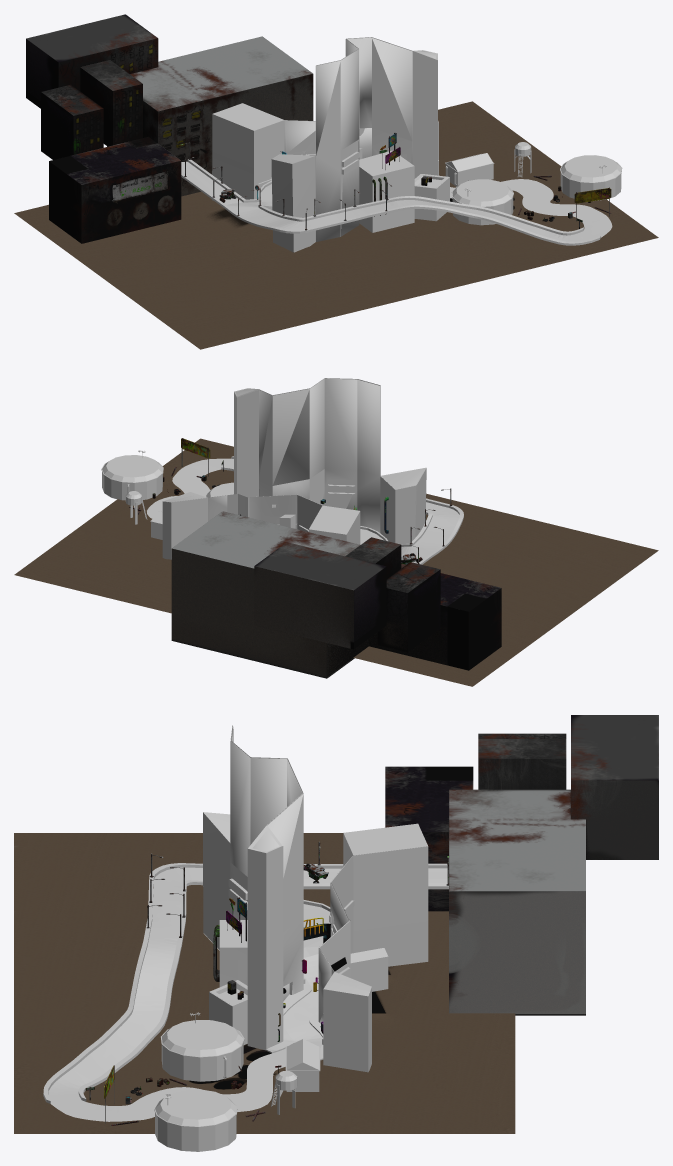
File: circuit2.obj
The picture shows the model from 3 angles, top to bottom: view 1: azimuth 30°, elevation 25°; view 2: azimuth 150°, elevation 25°; view 3: azimuth 270°, elevation 25°; orthographic projection. The views are drawn at different scales.
Parts seen in each view (by area): view 1: PlanoCarretera_Plane, EdificiosFondo_Cube.043, EdificiosPasillos_BezierCurve.000_CUBezierCurve.002, EdificiosPasillos_EdificiosPasillos, PistaBordillo_BezierCurve.003_CUBezierCurve.003, EdificiosIndustrial_Cylinder.001_Cylinder.016, EdificiosPasillos.001_EdificiosPasillos.001, Señales_Cube.023, Farolas_Cube.021; view 2: EdificiosFondo_Cube.043, PlanoCarretera_Plane, EdificiosPasillos.001_EdificiosPasillos.001, EdificiosPasillos_BezierCurve.000_CUBezierCurve.002, PistaBordillo_BezierCurve.003_CUBezierCurve.003, EdificiosIndustrial_Cylinder.001_Cylinder.016, EdificiosPasillos_EdificiosPasillos; view 3: PlanoCarretera_Plane, EdificiosFondo_Cube.043, EdificiosPasillos_BezierCurve.000_CUBezierCurve.002, PistaBordillo_BezierCurve.003_CUBezierCurve.003, EdificiosPasillos.001_EdificiosPasillos.001, EdificiosIndustrial_Cylinder.001_Cylinder.016, EdificiosPasillos_EdificiosPasillos, Señales_Cube.023.
Boxes of the visible parts, x1,y1,x2,y2 form: PlanoCarretera_Plane: [14, 101, 658, 349]; EdificiosFondo_Cube.043: [26, 14, 313, 243]; EdificiosPasillos_BezierCurve.000_CUBezierCurve.002: [212, 37, 449, 252]; EdificiosPasillos_EdificiosPasillos: [284, 37, 412, 252]; PistaBordillo_BezierCurve.003_CUBezierCurve.003: [181, 159, 612, 245]; EdificiosIndustrial_Cylinder.001_Cylinder.016: [445, 142, 622, 225]; EdificiosPasillos.001_EdificiosPasillos.001: [258, 39, 448, 232]; Señales_Cube.023: [255, 132, 611, 228]; Farolas_Cube.021: [180, 142, 392, 230]; EdificiosFondo_Cube.043: [171, 511, 501, 678]; PlanoCarretera_Plane: [14, 438, 658, 686]; EdificiosPasillos.001_EdificiosPasillos.001: [163, 378, 424, 559]; EdificiosPasillos_BezierCurve.000_CUBezierCurve.002: [162, 378, 426, 557]; PistaBordillo_BezierCurve.003_CUBezierCurve.003: [147, 456, 463, 564]; EdificiosIndustrial_Cylinder.001_Cylinder.016: [101, 450, 233, 539]; EdificiosPasillos_EdificiosPasillos: [208, 482, 322, 528]; PlanoCarretera_Plane: [14, 833, 515, 1133]; EdificiosFondo_Cube.043: [385, 715, 658, 1015]; EdificiosPasillos_BezierCurve.000_CUBezierCurve.002: [203, 727, 427, 1072]; PistaBordillo_BezierCurve.003_CUBezierCurve.003: [43, 863, 448, 1121]; EdificiosPasillos.001_EdificiosPasillos.001: [206, 727, 428, 1071]; EdificiosIndustrial_Cylinder.001_Cylinder.016: [154, 1012, 320, 1151]; EdificiosPasillos_EdificiosPasillos: [203, 725, 382, 1023]; Señales_Cube.023: [85, 897, 346, 1123].
Size of the model in its own units: 3419 by 1205 by 2924.
